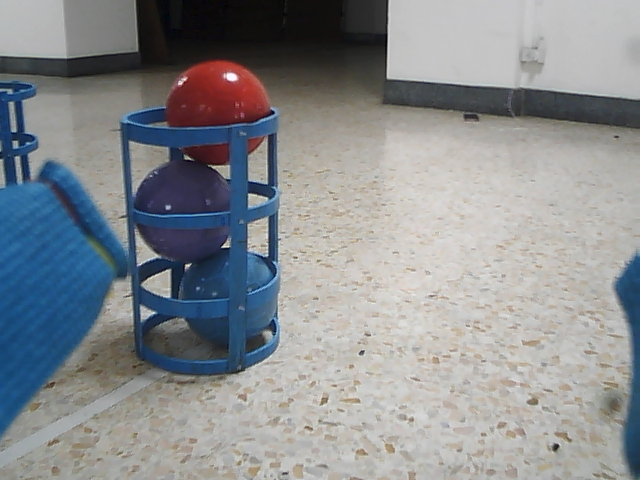Blue ball: (179, 249, 276, 342)
Cyro: (118, 102, 287, 380), (1, 77, 40, 193)
Purple ball: (130, 157, 232, 265)
Red ball: (163, 58, 270, 168)
